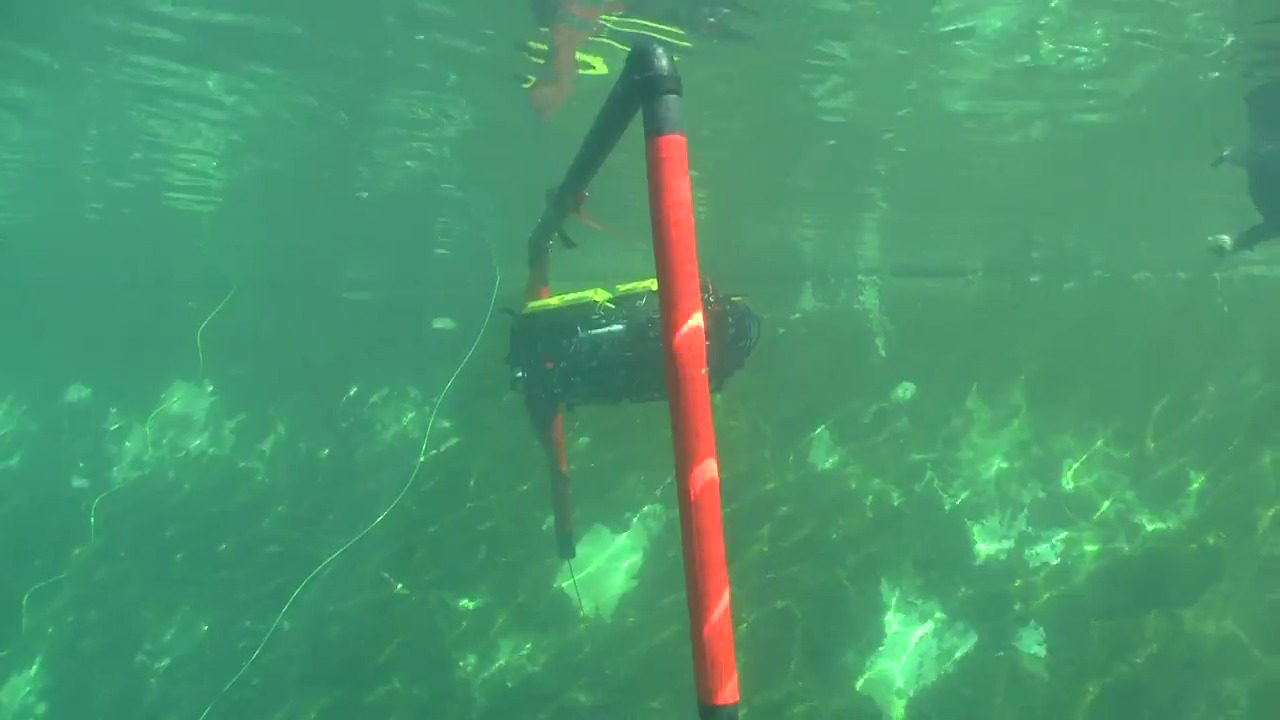gate: (506, 37, 748, 720)
